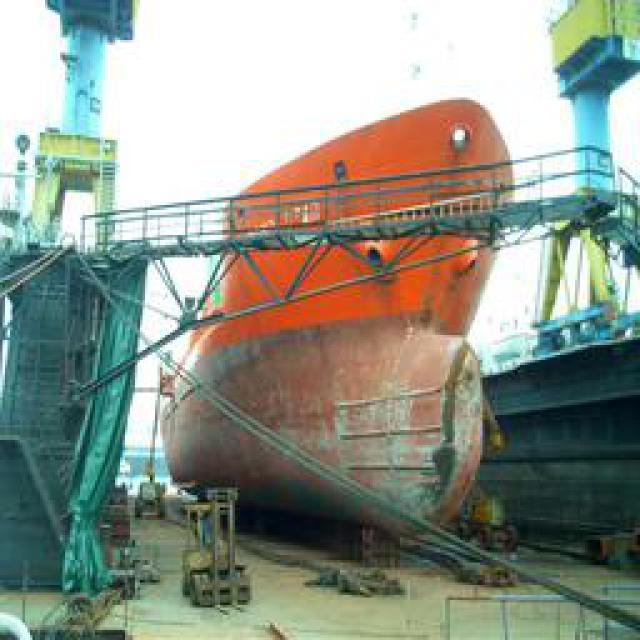Ship: (151, 96, 545, 570)
